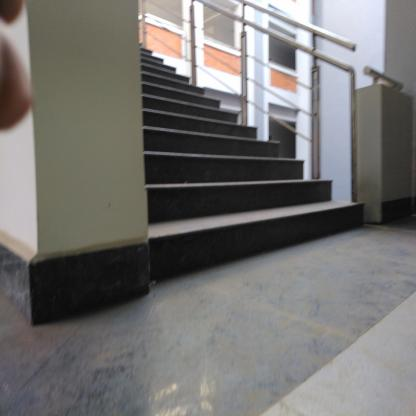stairs: (151, 112, 239, 290)
